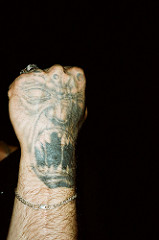fist: (7, 63, 93, 147)
